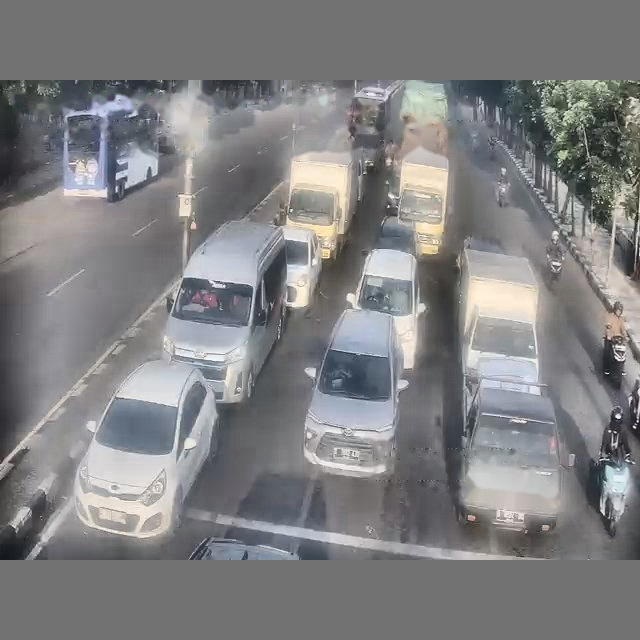Bis: (63, 104, 159, 201)
Mobil: (74, 360, 218, 538), (303, 309, 408, 477), (458, 384, 574, 532), (346, 249, 426, 369), (283, 226, 321, 309), (189, 537, 299, 559), (374, 216, 416, 256)
Motor: (597, 447, 634, 536), (604, 336, 626, 389), (628, 379, 639, 432), (547, 255, 563, 286), (496, 182, 508, 206)
Truk: (458, 248, 538, 382), (285, 151, 360, 260), (397, 147, 451, 257)
